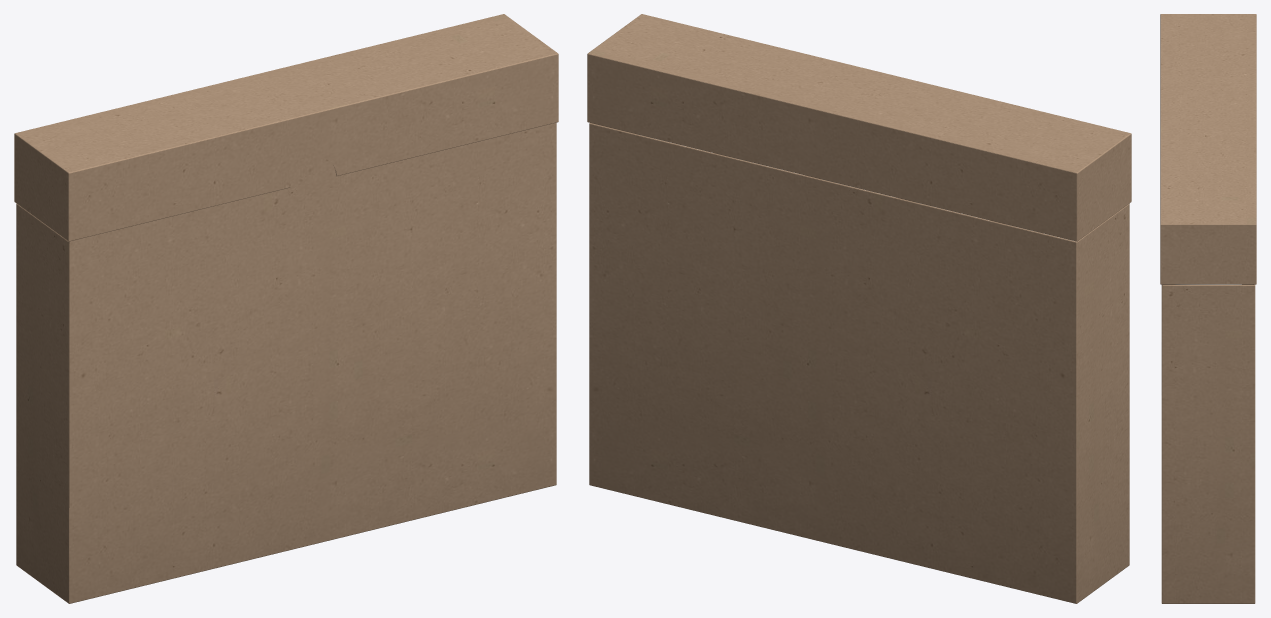
The model's file is anim-pr2-std.glb.
The picture shows the model from 3 angles, left to right: view 1: azimuth 30°, elevation 25°; view 2: azimuth 150°, elevation 25°; view 3: azimuth 270°, elevation 25°; orthographic projection. The views are drawn at different scales.
Parts seen in each view (by area): view 1: p2s_b, p2s_l; view 2: p2s_b, p2s_l; view 3: p2s_b, p2s_l.
Boxes of the visible parts, x1,y1,x2,y2 form: p2s_b: (16,122,556,603); p2s_l: (14,14,558,241); p2s_b: (589,123,1129,603); p2s_l: (587,14,1131,241); p2s_b: (1161,284,1255,603); p2s_l: (1160,14,1256,284).
Bounding box in the file's own units: 0.1487 × 0.1253 × 0.0287.
Materials: 2 (1 with a texture image).
